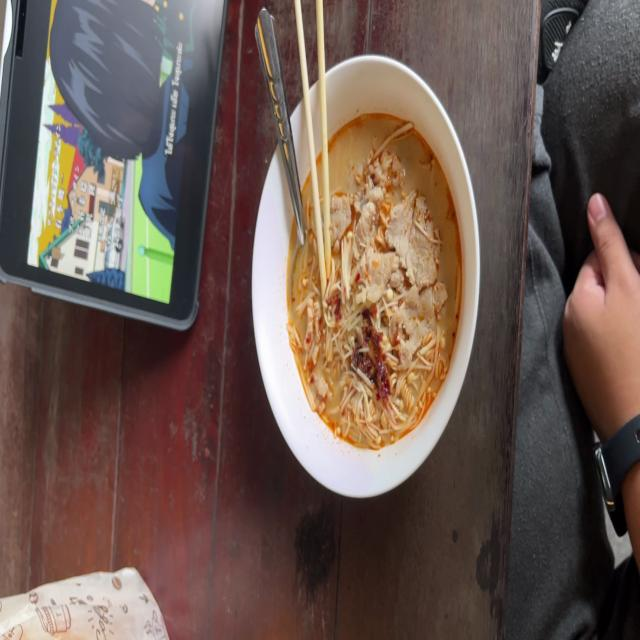noodle: (262, 85, 495, 491)
